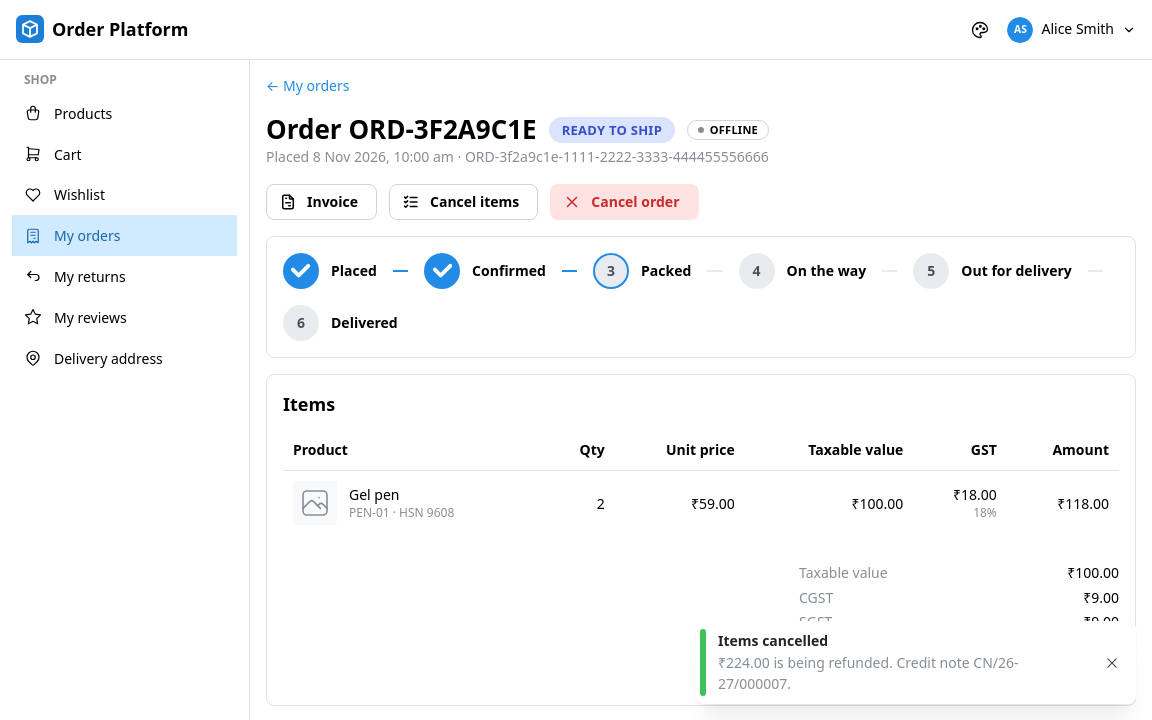
Test case: order page › warns that cancelling everything left cancels the order
Step 1. Click the button "Cancel items" → coordinates (464, 202), box [389, 184, 538, 220]
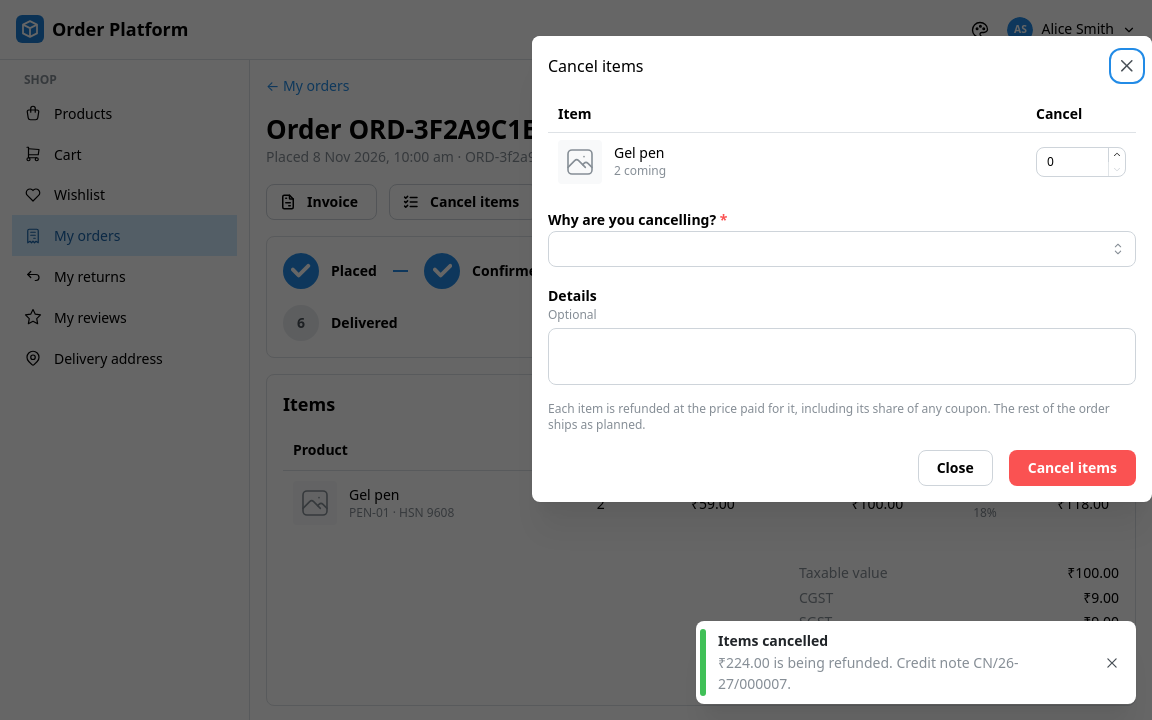
Step 2. Replace the text in the field named "Units of Gel pen to cancel" with "2" → coordinates (1081, 162), box [1036, 147, 1126, 177]
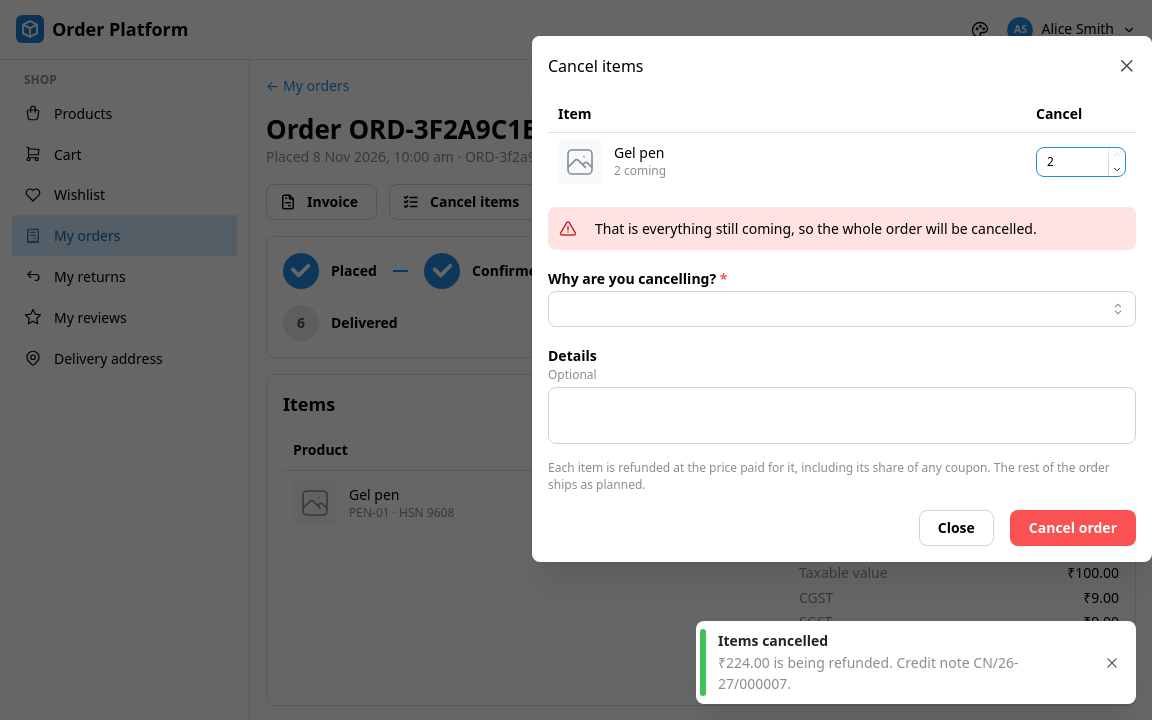
Now the text "the whole order will be cancelled" is shown, box [595, 219, 1037, 238]
Now the button "Cancel order" is shown, box [1010, 510, 1136, 546]
